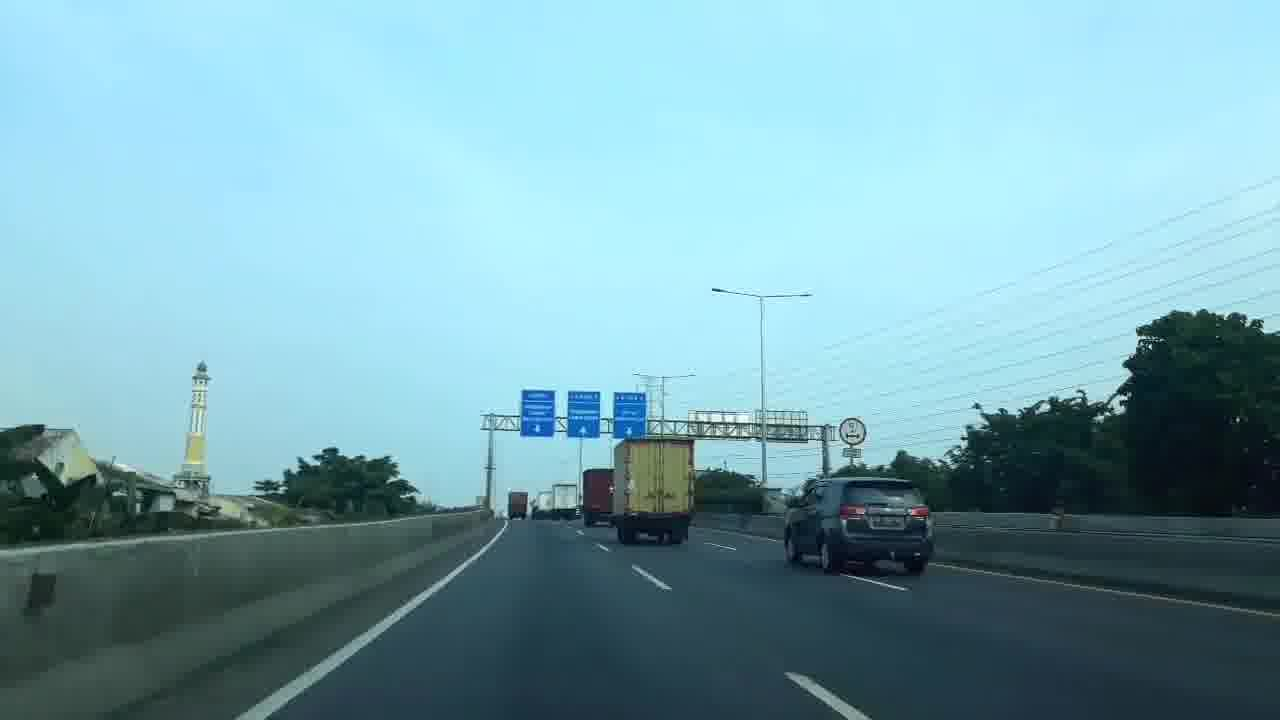plate_positive: (870, 515, 902, 528)
